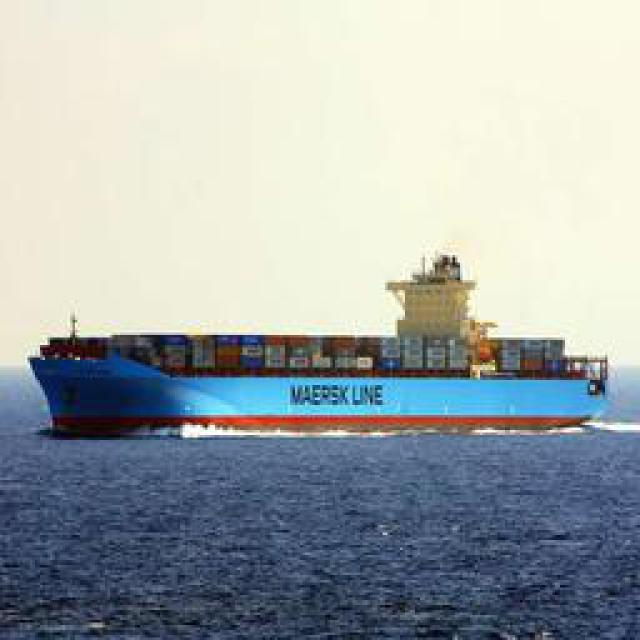Ship: (37, 332, 617, 432)
